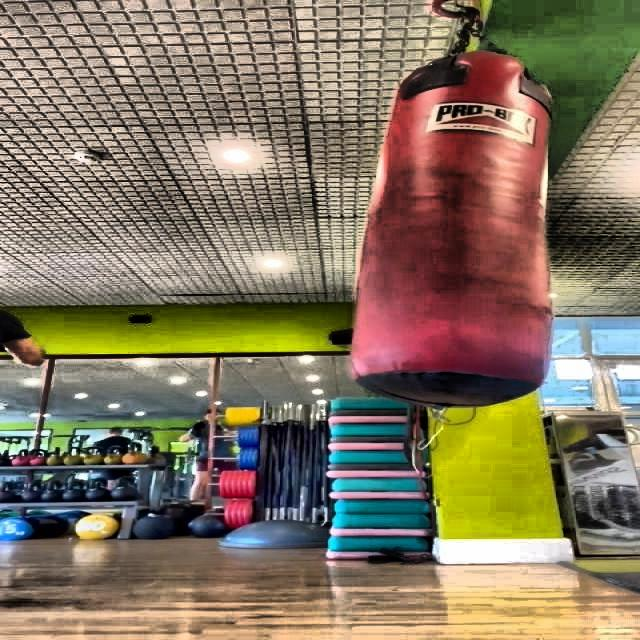boxing-bag: (357, 4, 549, 408)
